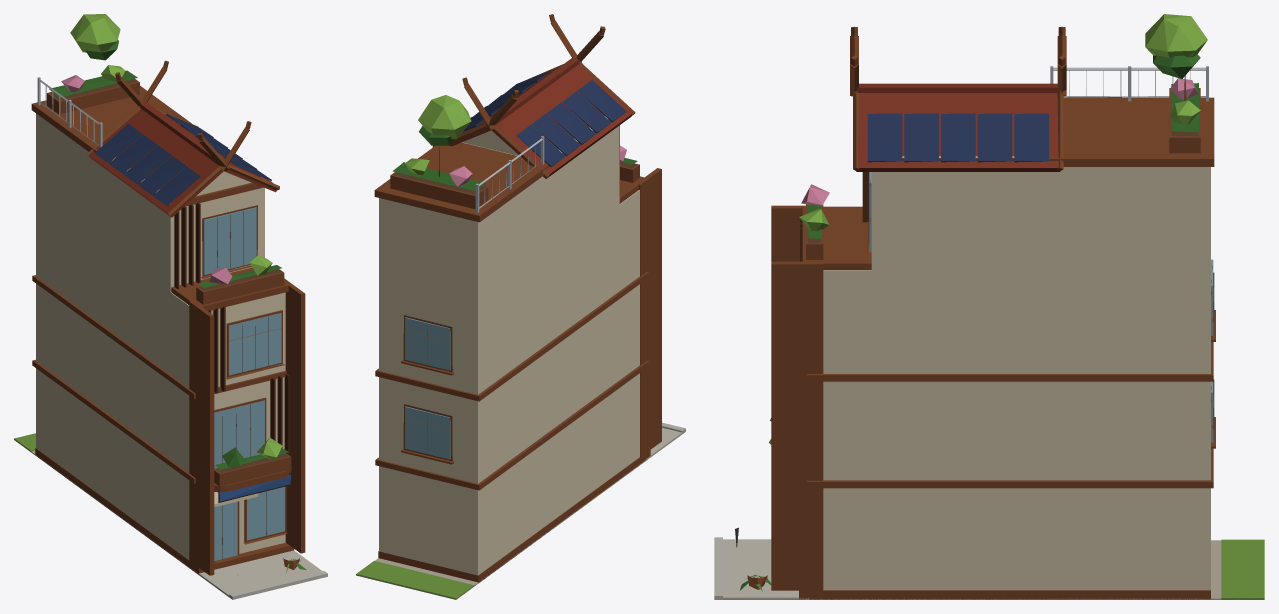
Rendered from bay2_mid.glb.
3 renders of one model, left to right at view 1: azimuth 30°, elevation 25°; view 2: azimuth 150°, elevation 25°; view 3: azimuth 270°, elevation 25°, orthographic. The views are drawn at different scales.
Parts seen in each view (by area): view 1: body; view 2: body; view 3: body.
Boxes of the visible parts, <box> form: body: <box>14,14,327,599</box>; body: <box>356,14,685,599</box>; body: <box>714,14,1264,599</box>.
Bounding box in the file's own units: 4.7 × 17.63 × 15.9.
